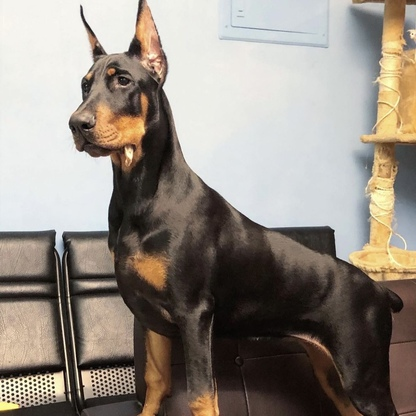doberman: (57, 1, 409, 416)
